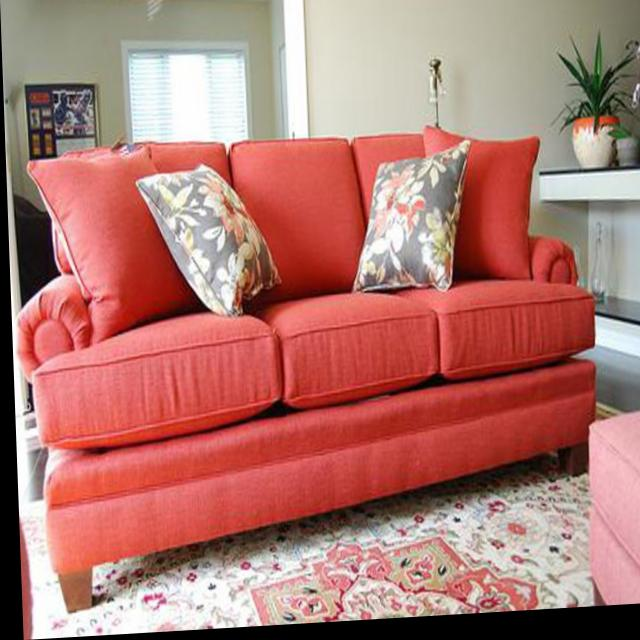Sofa: (26, 120, 604, 614)
